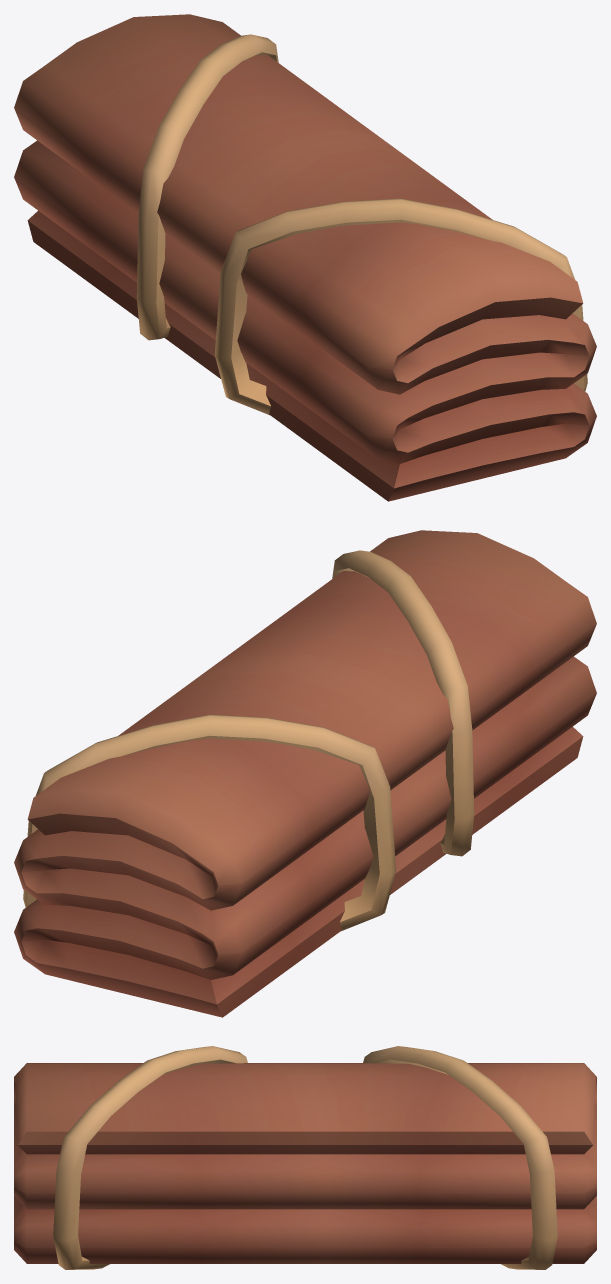
The model's file is textiles_c.glb.
3 views of the same model, one above another, from view 1: azimuth 30°, elevation 25°; view 2: azimuth 150°, elevation 25°; view 3: azimuth 270°, elevation 25° (orthographic). The views are drawn at different scales.
Visible parts, largest first — view 1: Textiles_C; view 2: Textiles_C; view 3: Textiles_C.
Boxes of the visible parts, x1,y1,x2,y2 form: Textiles_C: (14,14,596,501); Textiles_C: (14,530,596,1017); Textiles_C: (14,1046,596,1269).
Bounding box in the file's own units: 0.6142 × 0.5225 × 1.55.
1 material, 1 textured.
